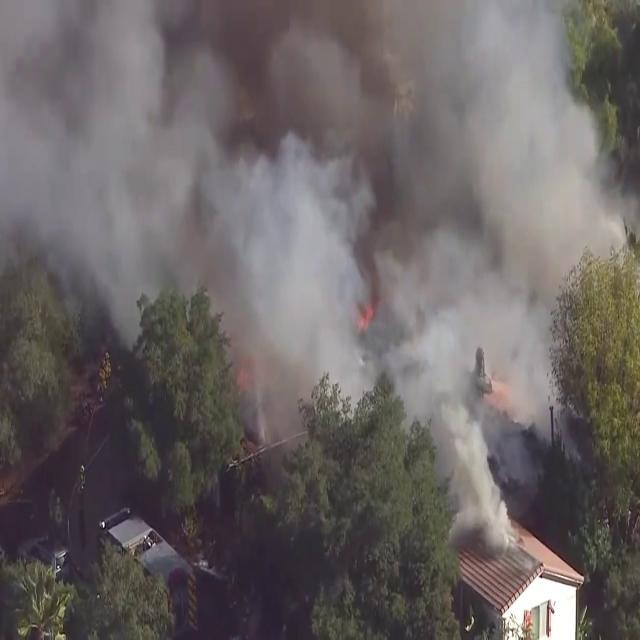Smoke: (5, 0, 635, 437)
